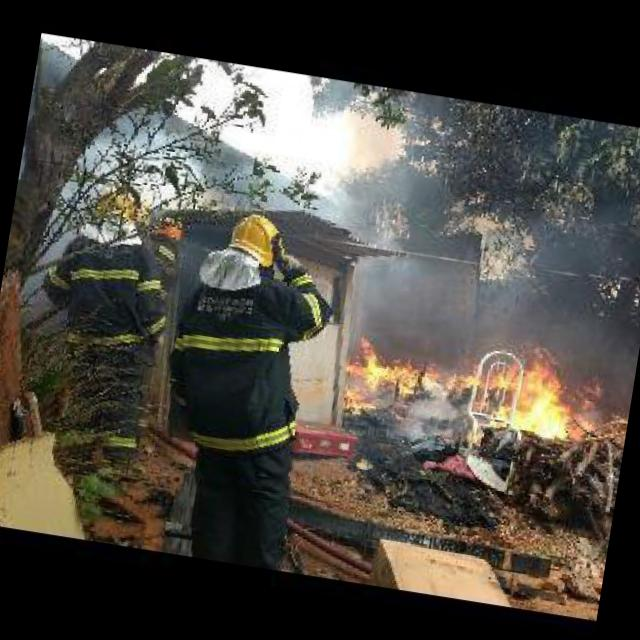fire: (445, 332, 609, 468), (336, 332, 456, 431)
